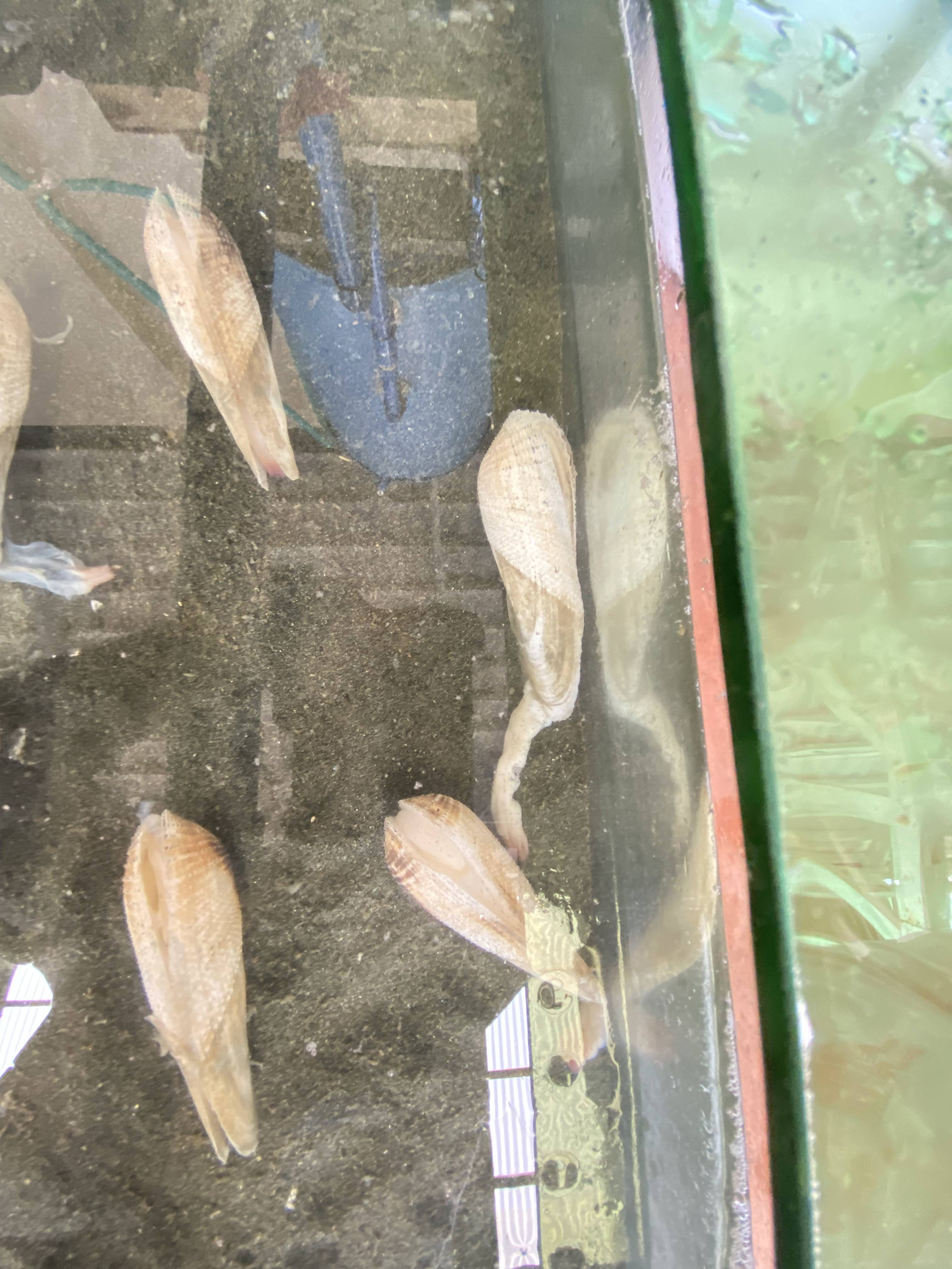At risk: (385, 412, 605, 1062), (123, 810, 258, 1162), (144, 186, 298, 489)
